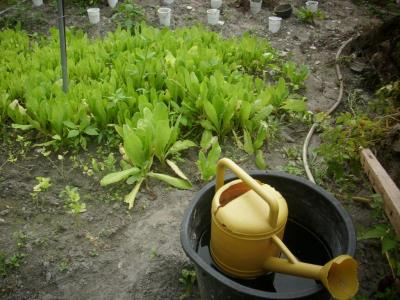bowl: (206, 176, 290, 283), (274, 3, 293, 20)
bucket: (181, 168, 358, 300), (86, 7, 101, 24), (156, 6, 171, 23), (206, 7, 221, 24), (267, 15, 282, 32), (249, 1, 263, 13)
